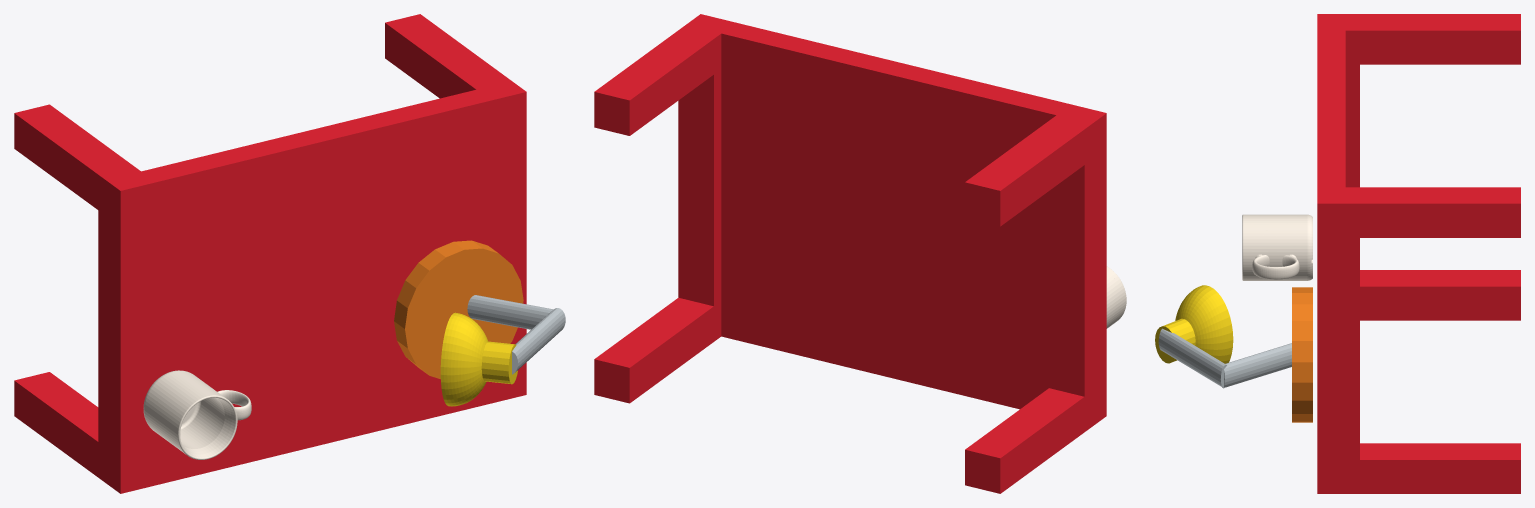
Rendered from tinker.obj.
The picture shows the model from 3 angles, left to right: view 1: azimuth 30°, elevation 25°; view 2: azimuth 150°, elevation 25°; view 3: azimuth 270°, elevation 25°; orthographic projection. The views are drawn at different scales.
Visible parts, largest first — view 1: group_0_15277357, group_0_16089887, group_0_16774632, group_0_16768282, group_0_12568524; view 2: group_0_15277357, group_0_16774632; view 3: group_0_15277357, group_0_16774632, group_0_16768282, group_0_12568524, group_0_16089887.
Boxes of the visible parts, <box> form: group_0_15277357: <box>14,14,526,493</box>; group_0_16089887: <box>394,240,523,379</box>; group_0_16774632: <box>143,370,251,459</box>; group_0_16768282: <box>440,312,517,406</box>; group_0_12568524: <box>467,295,565,374</box>; group_0_15277357: <box>594,14,1106,493</box>; group_0_16774632: <box>1106,266,1126,328</box>; group_0_15277357: <box>1317,14,1520,493</box>; group_0_16774632: <box>1242,214,1312,280</box>; group_0_16768282: <box>1155,285,1233,363</box>; group_0_12568524: <box>1158,328,1291,388</box>; group_0_16089887: <box>1292,287,1312,422</box>.
Size of the model in its own units: 108 by 77 by 88.
